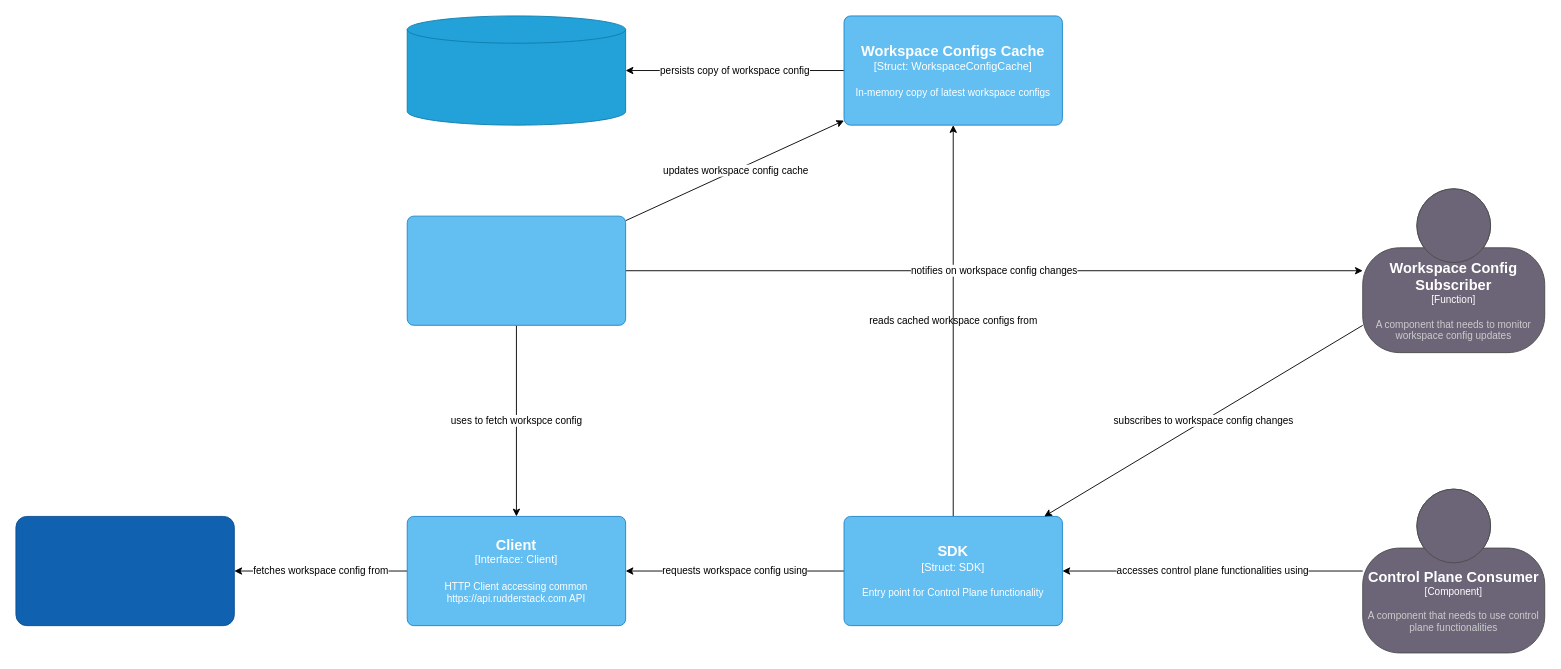
Some shapes in this 1561 by 669 pixel diagram are drawn without their labels. The shapes that lost their labels are listed below. From the top down, each one's centre as x and y in pixels, then its label:
At [516,70]: "Postgres [Container: Postgres] Workspace config cache storage".
At [516,270]: "Poller [Struct: Poller] Periodically polls workspace configs".
At [124,571]: "Control Plane HTTP API [Software System] https://api.rudderstack.com".
